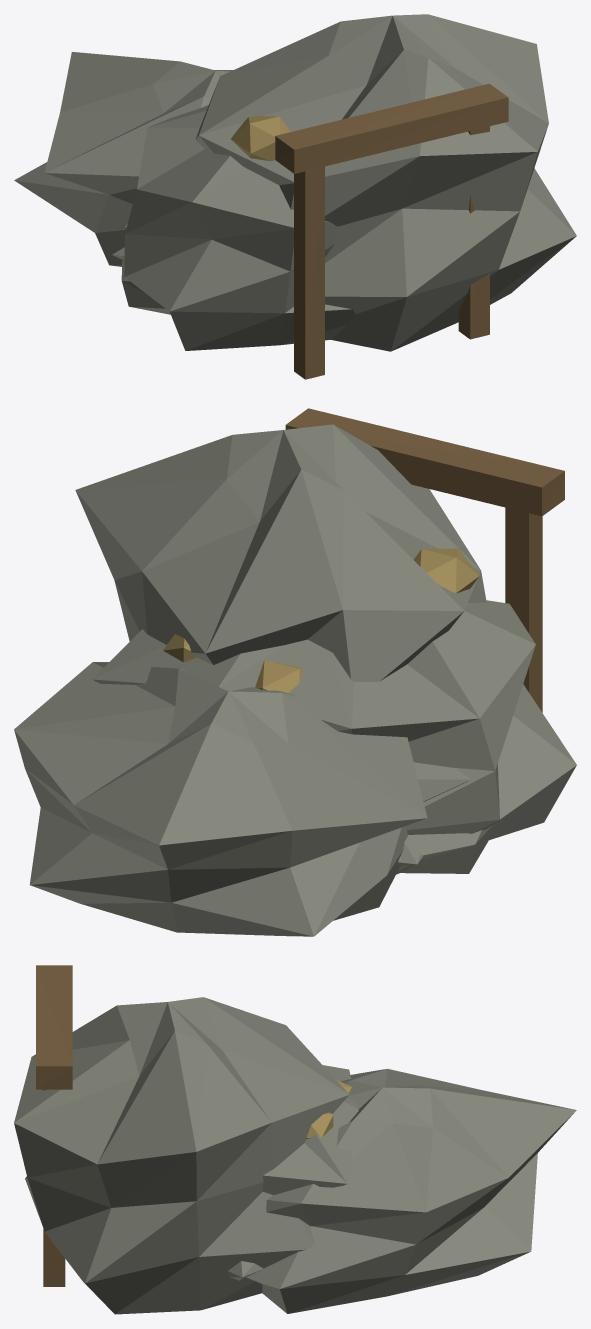
The model's file is gold_deposit.glb.
3 renders of one model, top to bottom at view 1: azimuth 30°, elevation 25°; view 2: azimuth 150°, elevation 25°; view 3: azimuth 270°, elevation 25°, orthographic. The views are drawn at different scales.
Visible parts, largest first — view 1: world-scenery/gold_deposit; view 2: world-scenery/gold_deposit; view 3: world-scenery/gold_deposit.
Boxes of the visible parts, <box> form: world-scenery/gold_deposit: <box>14,14,576,379</box>; world-scenery/gold_deposit: <box>14,408,576,936</box>; world-scenery/gold_deposit: <box>14,965,576,1314</box>.
Size of the model in its own units: 2.39 by 1.62 by 3.07.
